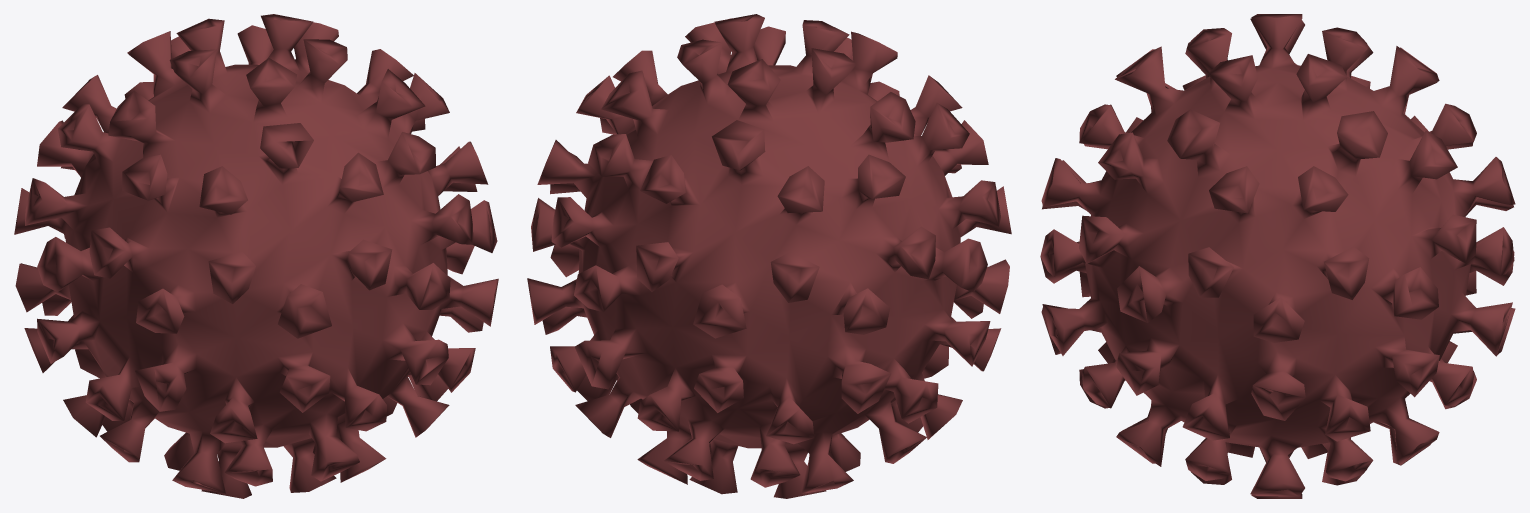
Rendered from virus_rouge.fbx.
The picture shows the model from 3 angles, left to right: view 1: azimuth 30°, elevation 25°; view 2: azimuth 150°, elevation 25°; view 3: azimuth 270°, elevation 25°; orthographic projection.
Parts seen in each view (by area): view 1: Icosphere; view 2: Icosphere; view 3: Icosphere.
Part boxes in pixels (x1,y1,x2,y2): Icosphere: (14, 14, 498, 498); Icosphere: (527, 14, 1011, 498); Icosphere: (1040, 14, 1515, 498).
Bounding box in the file's own units: 242 × 240 × 237.
